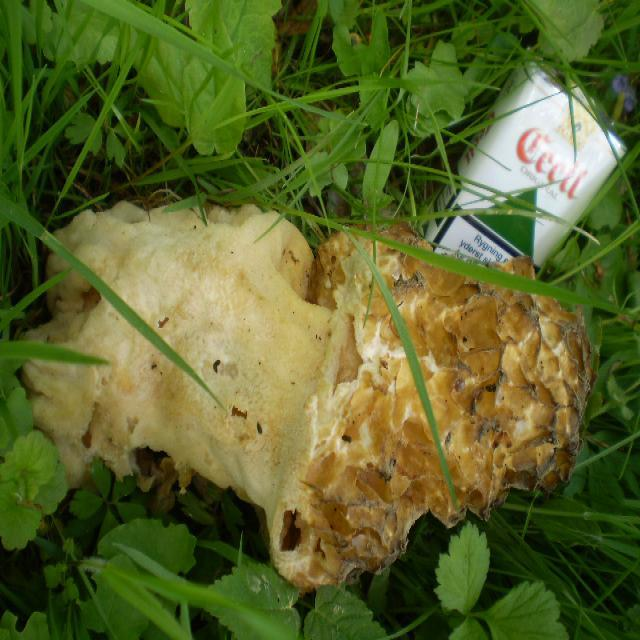Morchella esculenta: (42, 204, 588, 576)
